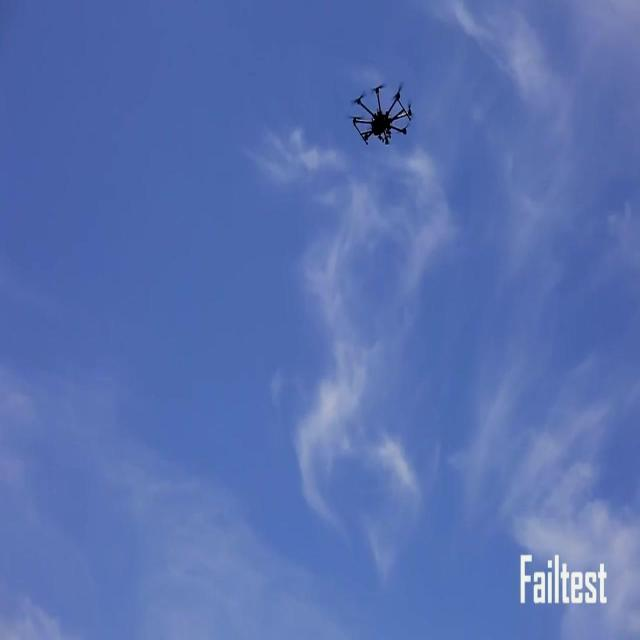drone: (350, 84, 414, 148)
